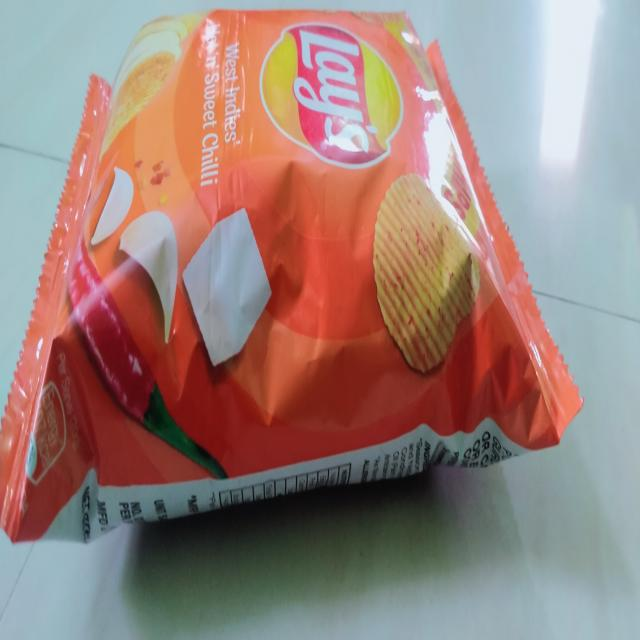lays: (0, 12, 582, 557)
